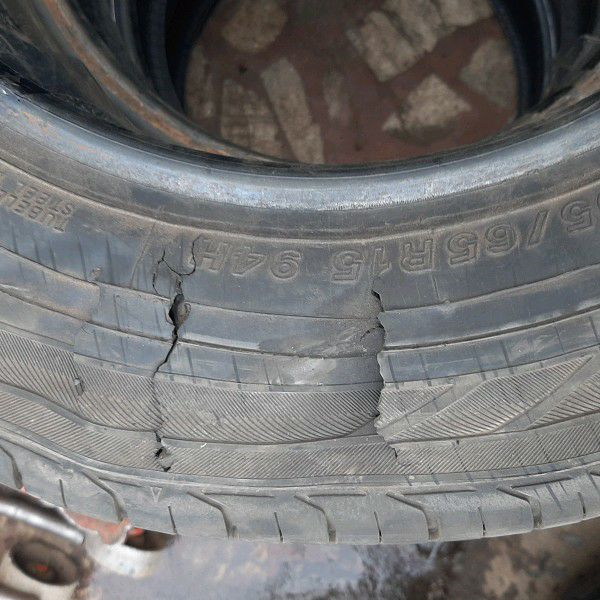cut: (146, 230, 209, 475), (367, 276, 401, 464)
